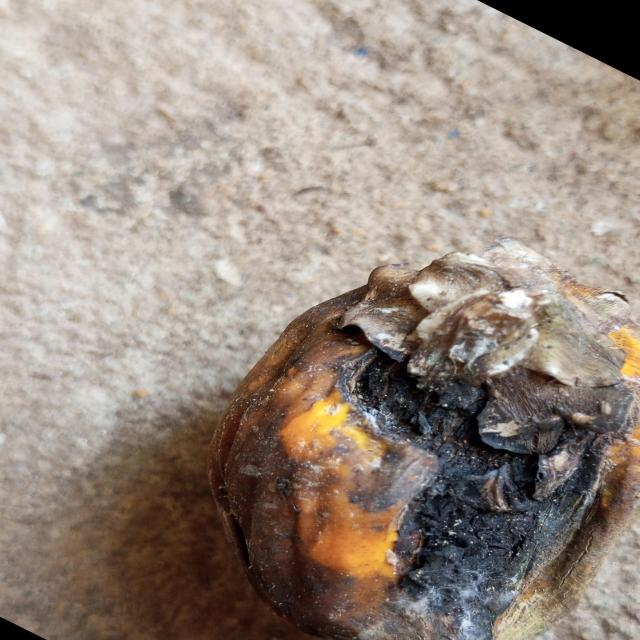damaged: (210, 239, 640, 640)
